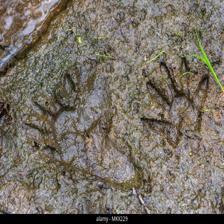raccoon: (137, 57, 212, 147)
